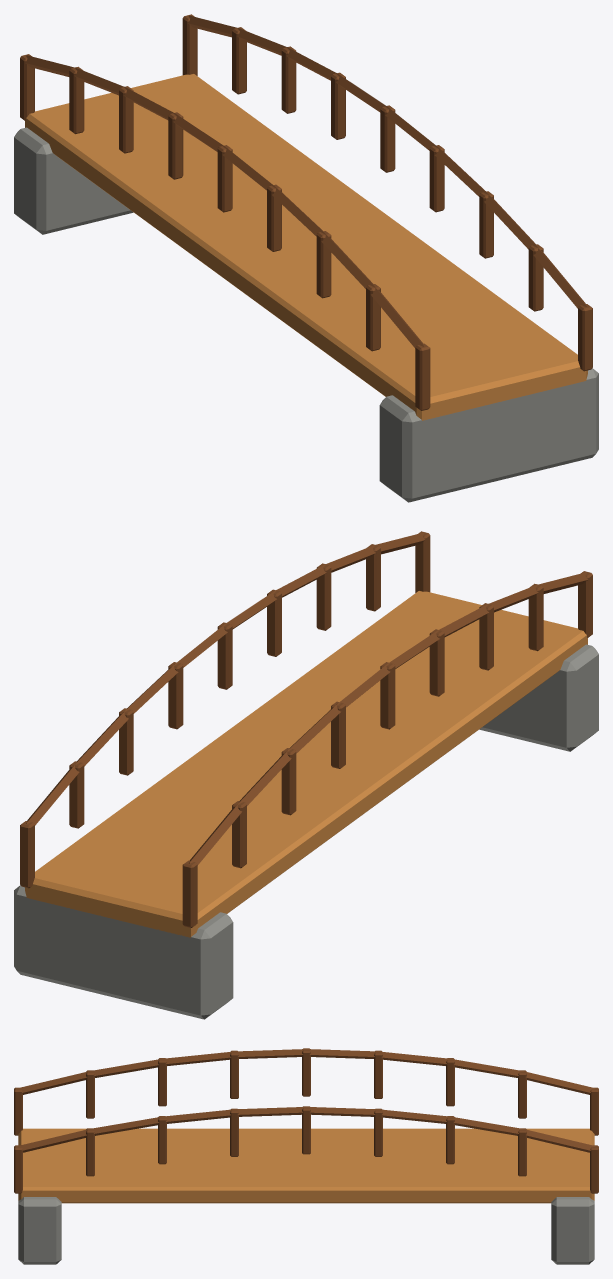
The model's file is Bridge.fbx.
3 views of the same model, one above another, from view 1: azimuth 30°, elevation 25°; view 2: azimuth 150°, elevation 25°; view 3: azimuth 270°, elevation 25° (orthographic). The views are drawn at different scales.
Visible parts, largest first — view 1: Bridge; view 2: Bridge; view 3: Bridge.
Boxes of the visible parts, x1,y1,x2,y2 form: Bridge: [14, 14, 598, 502]; Bridge: [14, 531, 598, 1019]; Bridge: [14, 1048, 598, 1264].
Bounding box in the file's own units: 4.6 × 4.72 × 16.25.
1 material, 1 textured.
